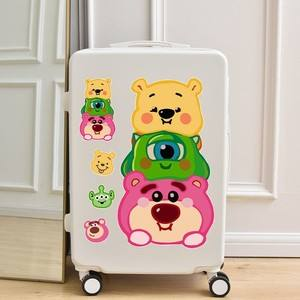box: (69, 48, 228, 274)
handle: (109, 41, 190, 49)
wheel: (209, 273, 230, 298), (82, 272, 103, 296)
